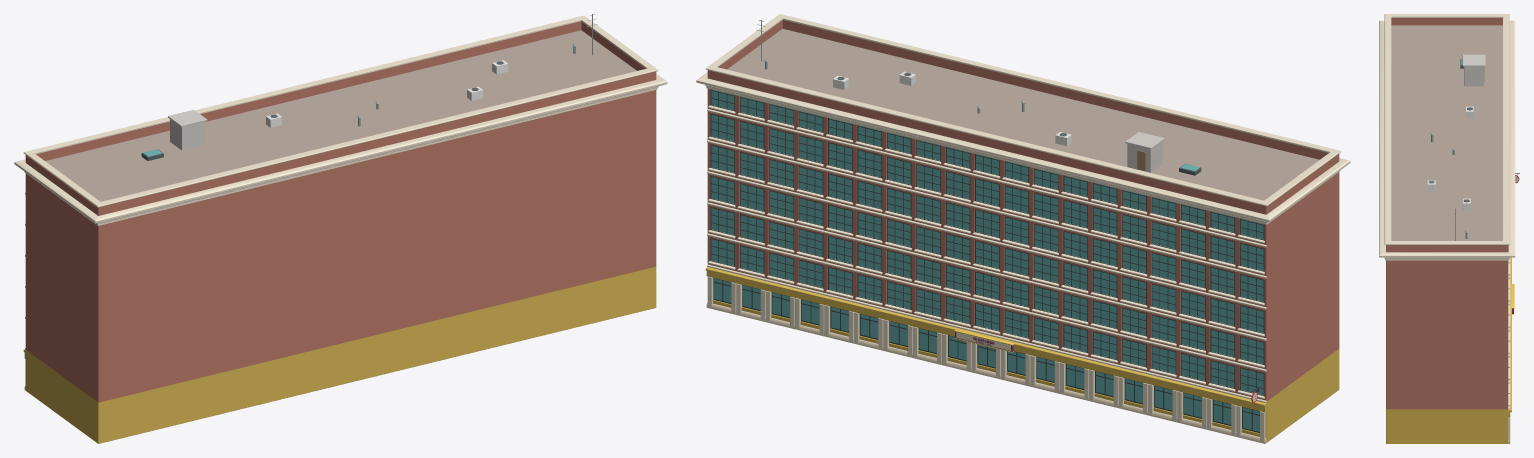
The model's file is terminus_e.glb.
3 renders of one model, left to right at view 1: azimuth 30°, elevation 25°; view 2: azimuth 150°, elevation 25°; view 3: azimuth 270°, elevation 25°, orthographic. The views are drawn at different scales.
Parts seen in each view (by area): view 1: shell, trim, props; view 2: shell, trim, frames, props; view 3: shell, trim, props.
Part boxes in pixels (<box>): shell: <box>25,30,656,443</box>; trim: <box>14,15,667,390</box>; props: <box>141,14,597,160</box>; shell: <box>707,28,1339,442</box>; trim: <box>696,14,1350,443</box>; frames: <box>710,89,1264,433</box>; props: <box>756,20,1201,175</box>; shell: <box>1386,25,1508,443</box>; trim: <box>1379,14,1515,443</box>; props: <box>1427,54,1485,240</box>.
Bounding box in the file's own units: 63.6 × 28.58 × 16.13.
